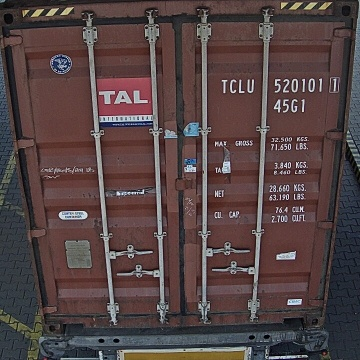serial_id: (222, 78, 339, 93)
